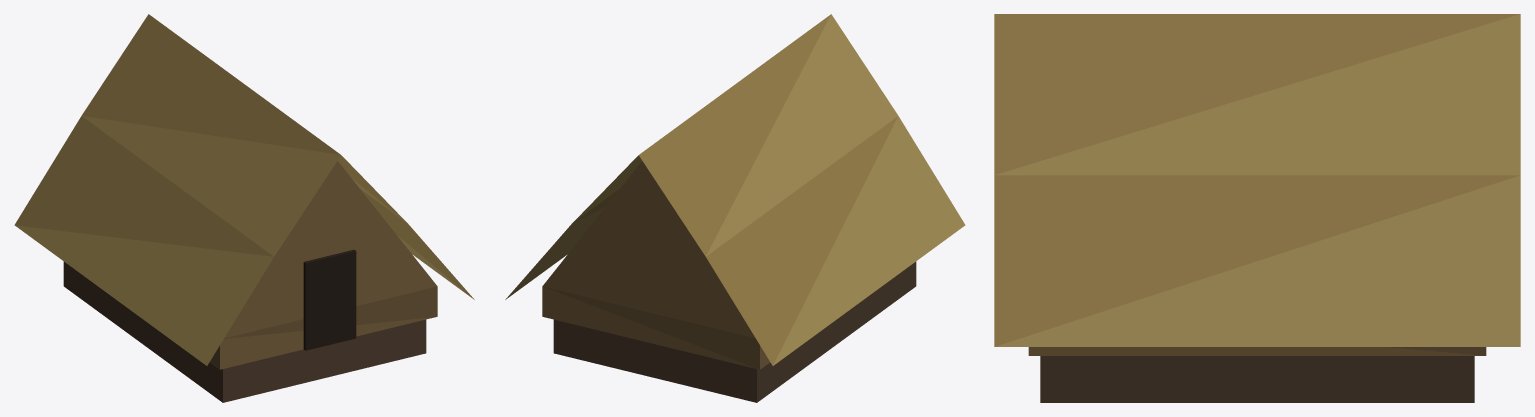
File: b3_grubehus.glb
3 views of the same model, side by side, from view 1: azimuth 30°, elevation 25°; view 2: azimuth 150°, elevation 25°; view 3: azimuth 270°, elevation 25° (orthographic). The views are drawn at different scales.
Visible parts, largest first — view 1: B3_grubehus; view 2: B3_grubehus; view 3: B3_grubehus.
Boxes of the visible parts, x1,y1,x2,y2 form: B3_grubehus: (14,14,474,402); B3_grubehus: (505,14,965,402); B3_grubehus: (994,14,1520,402).
Size of the model in its own units: 3.7 by 3.1 by 4.6.
